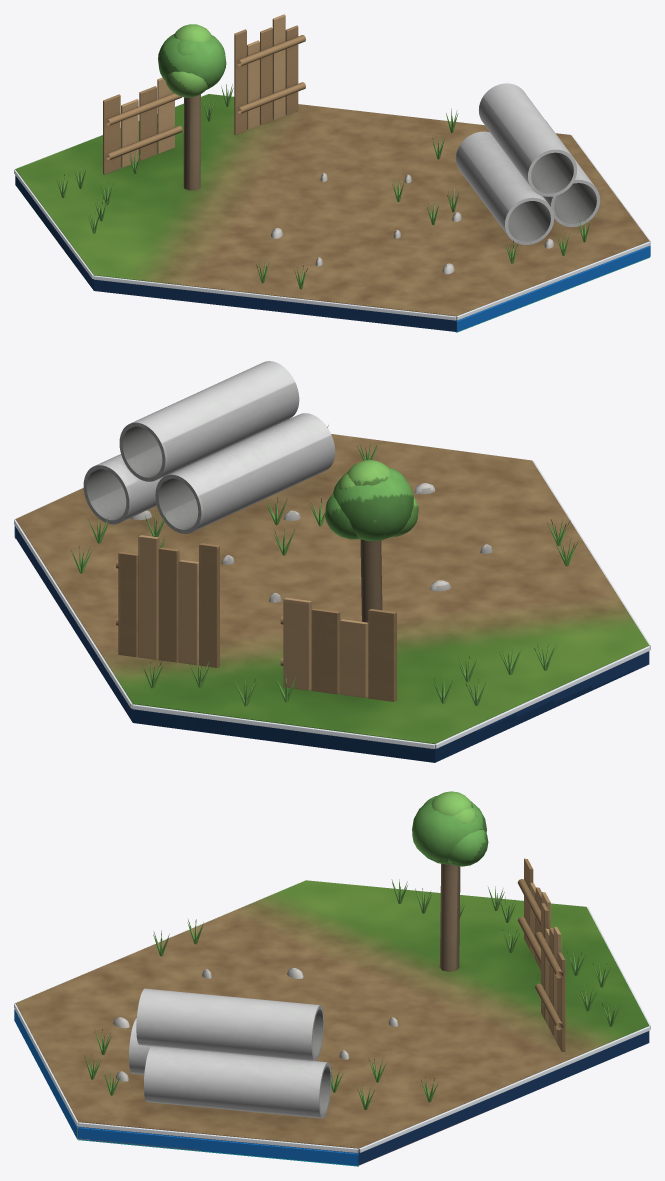
File: field_cm01_01.glb
3 renders of one model, top to bottom at view 1: azimuth 30°, elevation 25°; view 2: azimuth 150°, elevation 25°; view 3: azimuth 270°, elevation 25°, orthographic. The views are drawn at different scales.
Visible parts, largest first — view 1: field_cm01_01-static, field_cm01_01-canopy, field_cm01_01-grass; view 2: field_cm01_01-static, field_cm01_01-canopy, field_cm01_01-grass; view 3: field_cm01_01-static, field_cm01_01-canopy, field_cm01_01-grass.
Part boxes in pixels (left/top/right/bottom): field_cm01_01-static: left=14, top=14, right=650, bottom=332; field_cm01_01-canopy: left=158, top=24, right=226, bottom=97; field_cm01_01-grass: left=57, top=84, right=590, bottom=289; field_cm01_01-static: left=14, top=361, right=650, bottom=762; field_cm01_01-canopy: left=325, top=460, right=418, bottom=541; field_cm01_01-grass: left=70, top=425, right=578, bottom=706; field_cm01_01-static: left=14, top=858, right=650, bottom=1166; field_cm01_01-canopy: left=412, top=791, right=488, bottom=866; field_cm01_01-grass: left=84, top=879, right=619, bottom=1109.
Size of the model in its own units: 7.87 by 2.64 by 7.87.
Materials: 3 (3 with a texture image).
